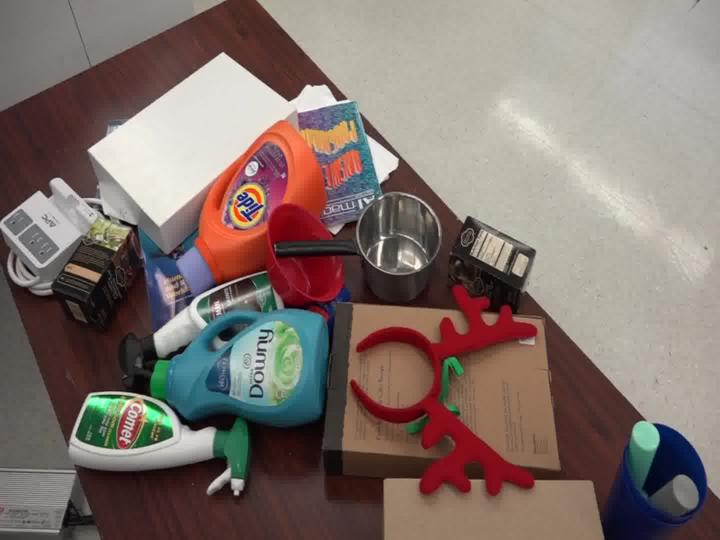tide: (164, 109, 338, 287)
